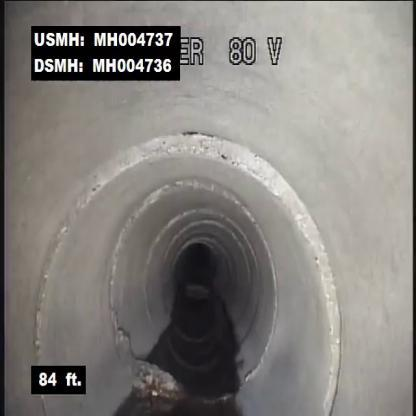Debris: (111, 327, 189, 407)
